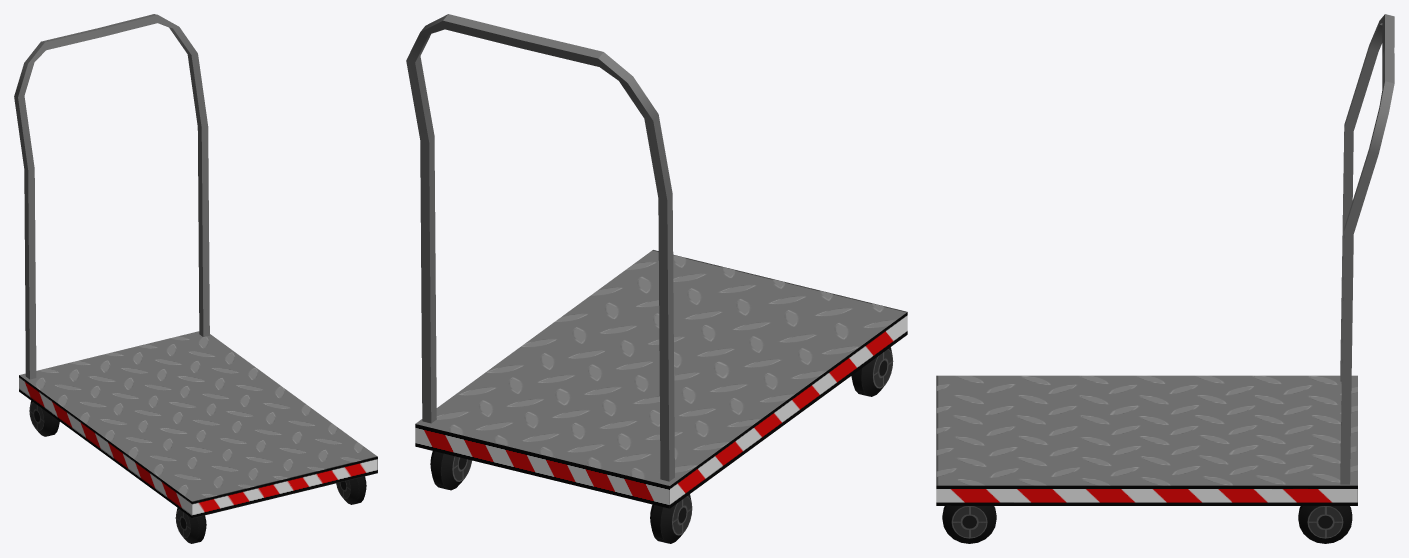
File: Karretje export.fbx
The picture shows the model from 3 angles, left to right: view 1: azimuth 30°, elevation 25°; view 2: azimuth 150°, elevation 25°; view 3: azimuth 270°, elevation 25°; orthographic projection. The views are drawn at different scales.
Visible parts, largest first — view 1: pCube7; view 2: pCube7; view 3: pCube7.
Part boxes in pixels (x1,y1,x2,y2): pCube7: (14, 14, 377, 543); pCube7: (406, 14, 907, 543); pCube7: (936, 14, 1394, 543).
Bounding box in the file's own units: 5.19 × 9.85 × 9.14.
Materials: 1 (1 with a texture image).
